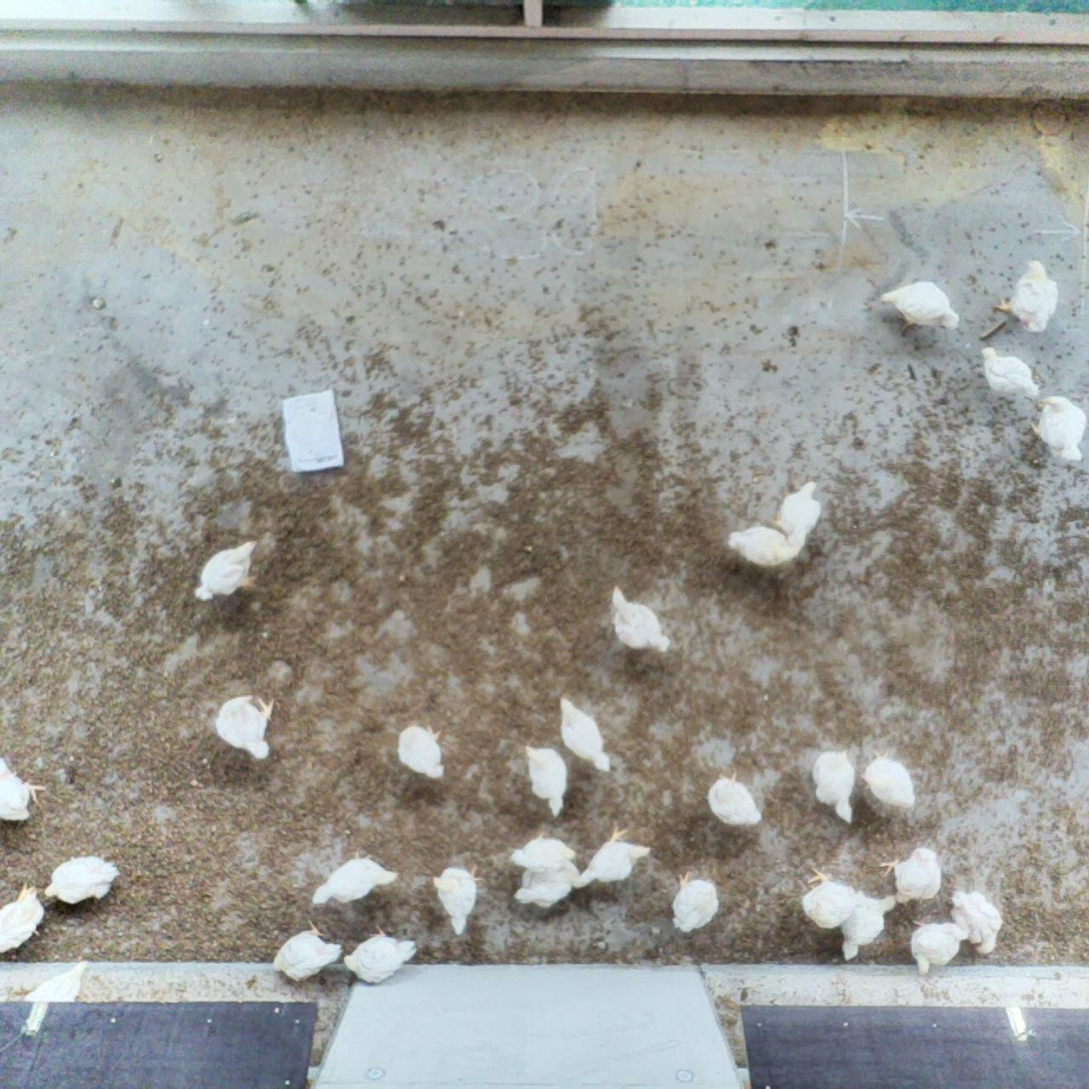chicken: (574, 822, 652, 893), (992, 258, 1061, 335), (310, 850, 400, 907), (342, 922, 421, 986), (608, 582, 673, 656), (877, 279, 962, 335), (270, 918, 343, 983), (213, 692, 277, 763), (192, 538, 260, 604), (557, 696, 612, 776), (839, 888, 898, 962), (429, 860, 486, 936), (1029, 392, 1088, 463), (878, 844, 945, 902), (800, 865, 858, 931), (43, 854, 121, 903), (771, 479, 825, 549), (725, 518, 802, 567), (810, 747, 858, 825), (909, 917, 969, 978), (949, 889, 1004, 955), (859, 749, 918, 809), (0, 881, 47, 956), (523, 742, 569, 818), (669, 869, 722, 934), (705, 771, 765, 827), (0, 756, 48, 825), (979, 345, 1040, 399), (513, 863, 580, 910), (397, 719, 448, 780), (509, 829, 578, 874)
